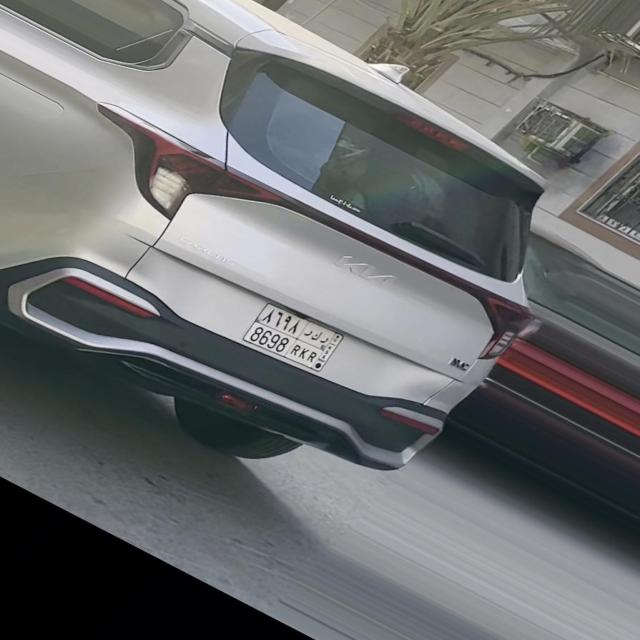Car-plate: (228, 288, 378, 392)
